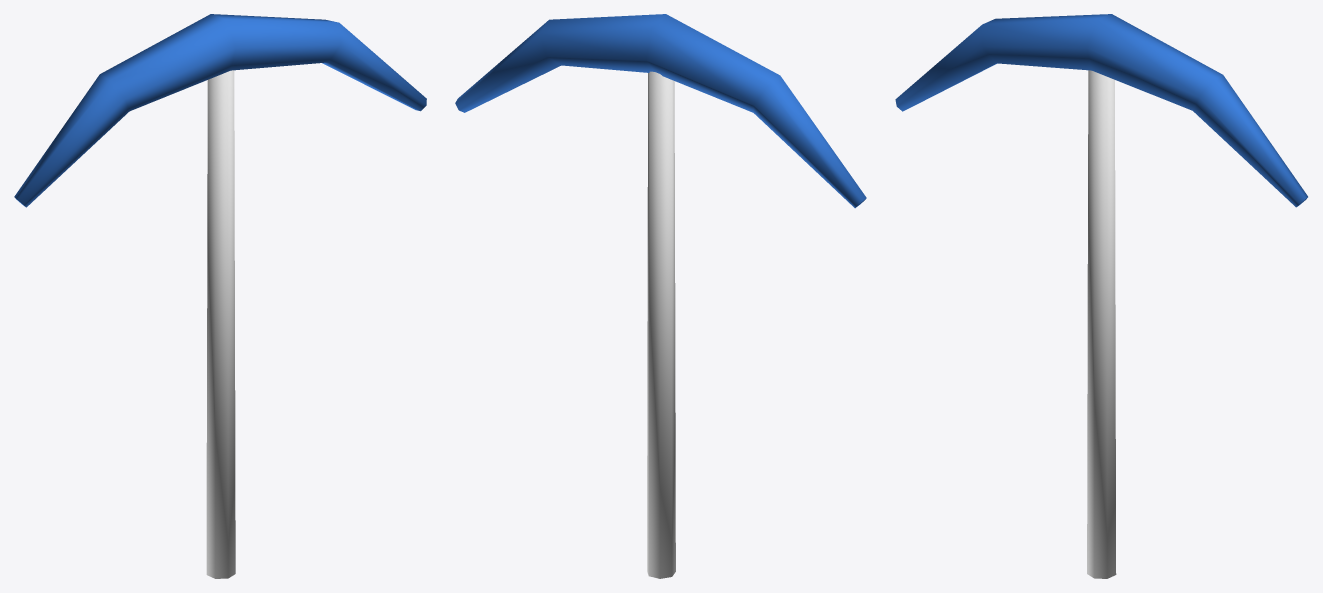
Rendered from cobalt_pickaxe.glb.
3 renders of one model, left to right at view 1: azimuth 30°, elevation 25°; view 2: azimuth 150°, elevation 25°; view 3: azimuth 330°, elevation 25°, orthographic.
Parts seen in each view (by area): view 1: cobalt_pickaxe_v0; view 2: cobalt_pickaxe_v0; view 3: cobalt_pickaxe_v0.
Part boxes in pixels (box(x1,y1,x2,y2)): cobalt_pickaxe_v0: box(14, 14, 426, 578); cobalt_pickaxe_v0: box(455, 14, 866, 578); cobalt_pickaxe_v0: box(895, 14, 1307, 578).
Size of the model in its own units: 0.6949 by 0.9026 by 0.0883.
